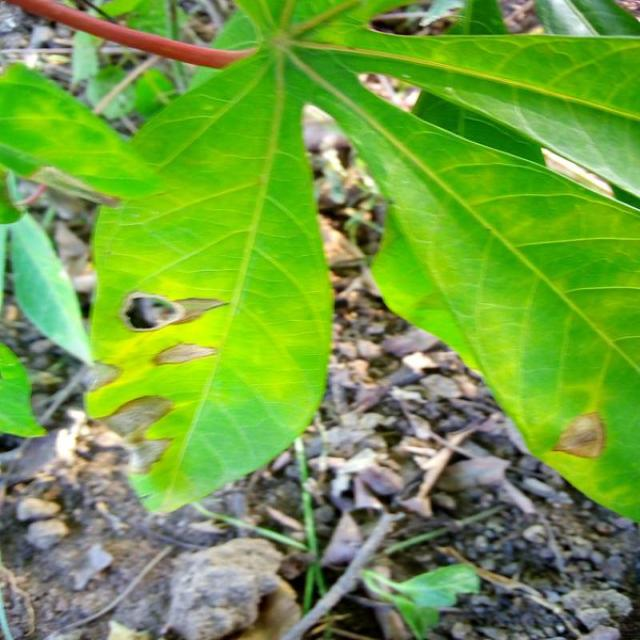cassava leaf: (1, 0, 638, 527), (83, 47, 334, 515)
